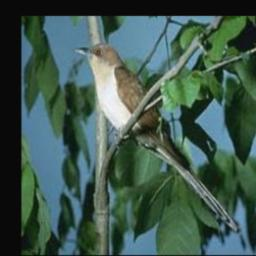Cuckoo: (70, 39, 243, 239)
